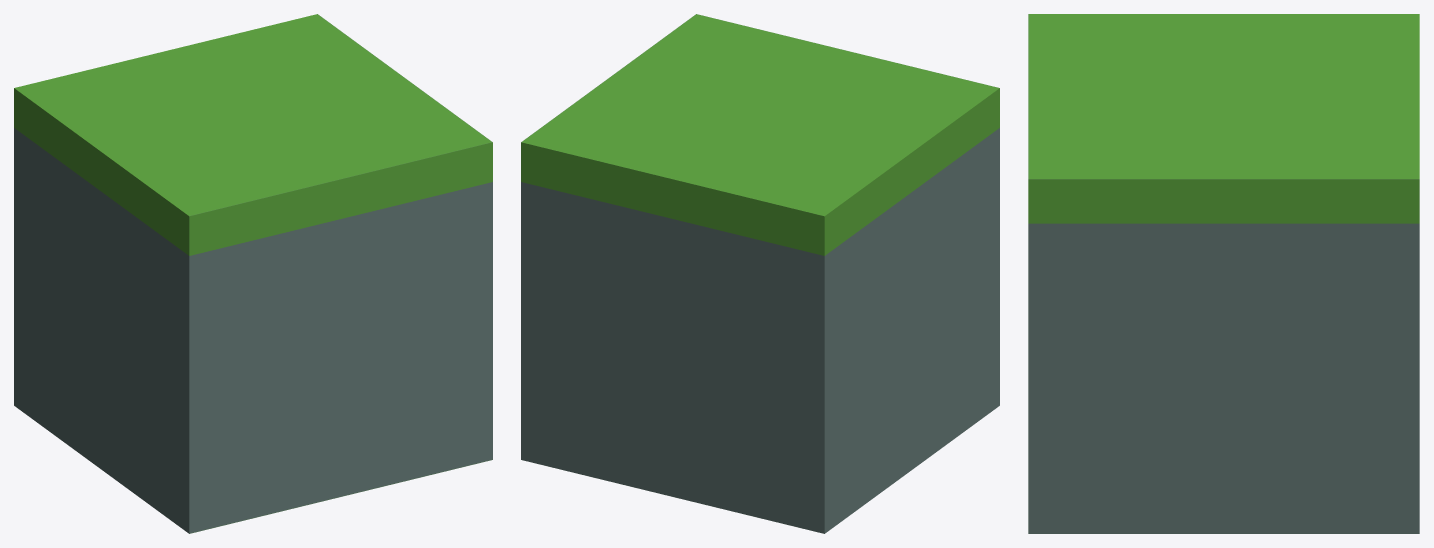
File: Block_Grass2.fbx
3 renders of one model, left to right at view 1: azimuth 30°, elevation 25°; view 2: azimuth 150°, elevation 25°; view 3: azimuth 270°, elevation 25°, orthographic. The views are drawn at different scales.
Parts seen in each view (by area): view 1: Block_Grass2; view 2: Block_Grass2; view 3: Block_Grass2.
Boxes of the visible parts, x1=… form: Block_Grass2: x1=14, y1=14, x2=492, y2=533; Block_Grass2: x1=521, y1=14, x2=999, y2=533; Block_Grass2: x1=1028, y1=14, x2=1419, y2=533.
Bounding box in the file's own units: 2 × 2 × 2.
Materials: 1 (1 with a texture image).
